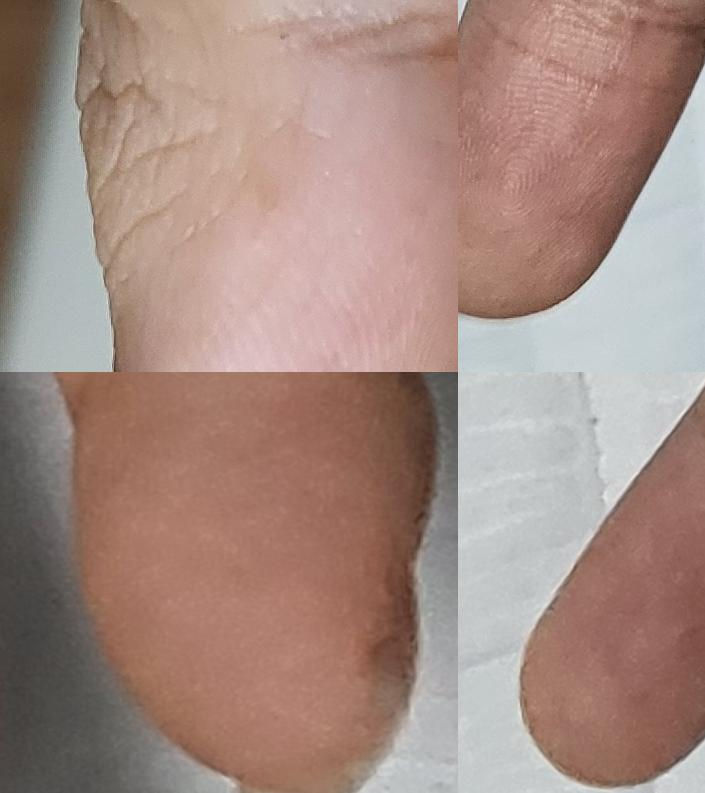Fingerprints: (70, 372, 418, 792), (145, 51, 458, 372), (458, 0, 705, 321), (519, 409, 705, 789)
